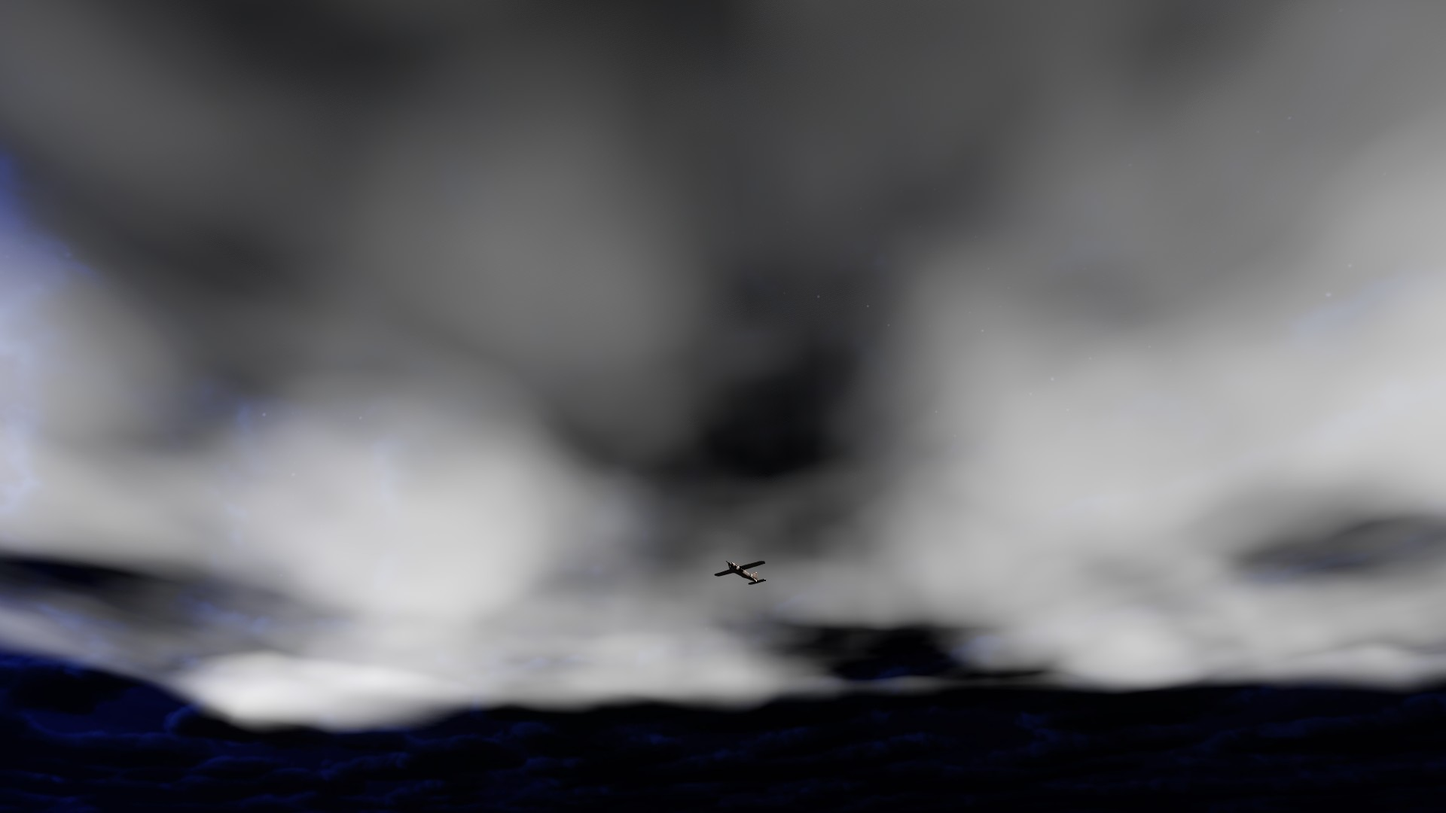drone_other: (714, 560, 766, 585)
